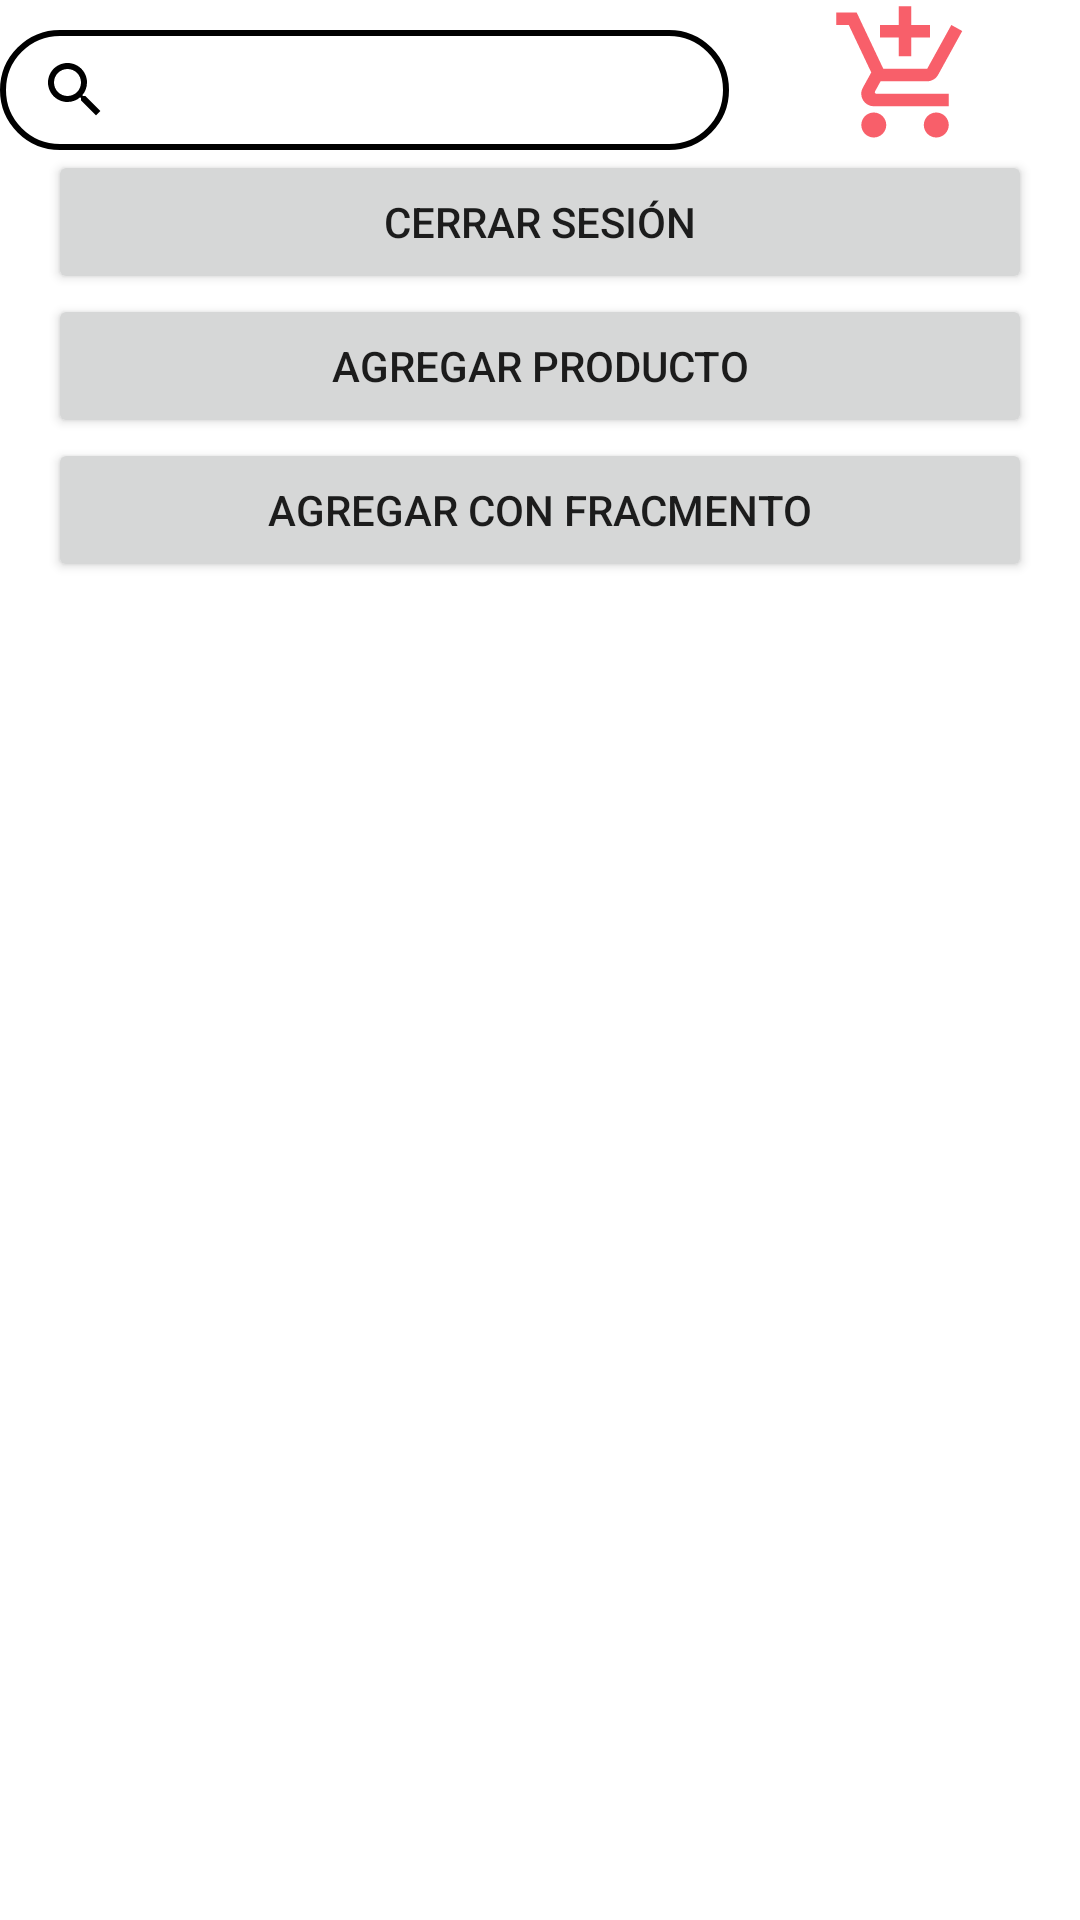

Screen size 1080px×1920px. Icon name, then its center in pixels as (x=x, y=y):
add shopping cart: (x=899, y=72)
